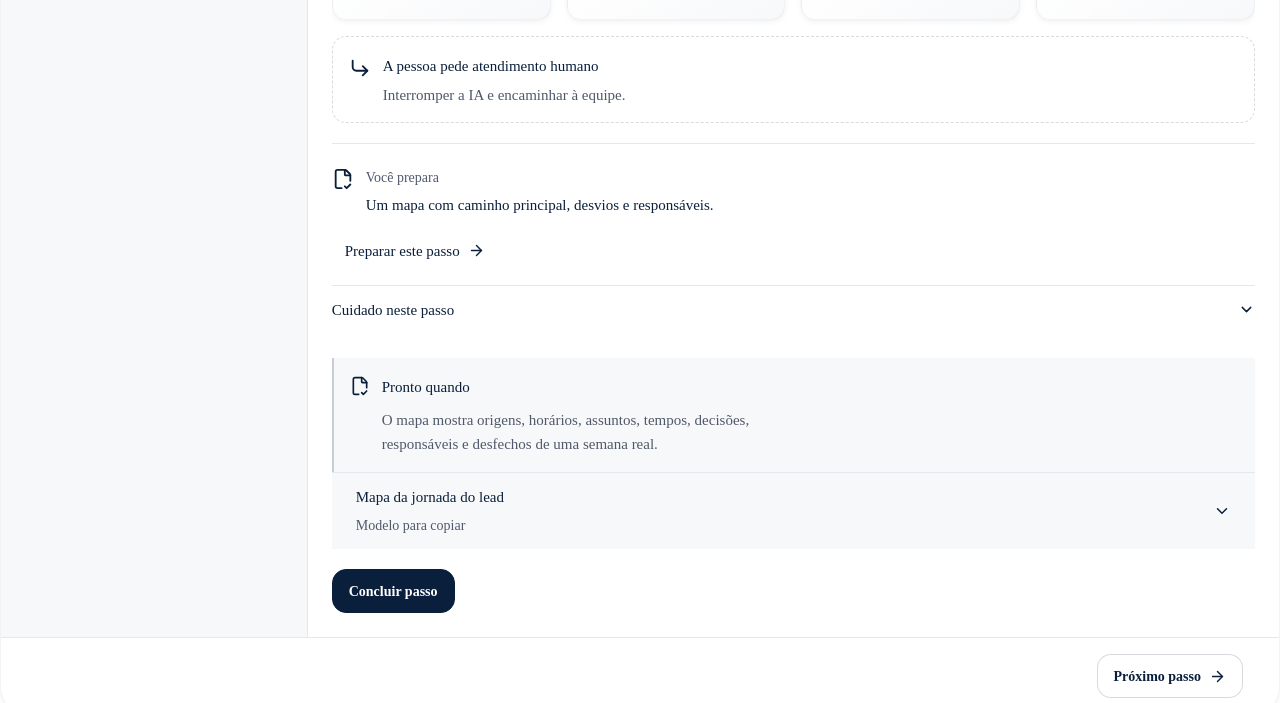
Test: Navegação da implementação › concluir atualiza o progresso, mantém o resultado e só avança com ação explícita
The image size is (1280, 703).
(page scrolled)
Click the button "Concluir passo" at (393, 591), box [332,569,454,613]
(page scrolled)
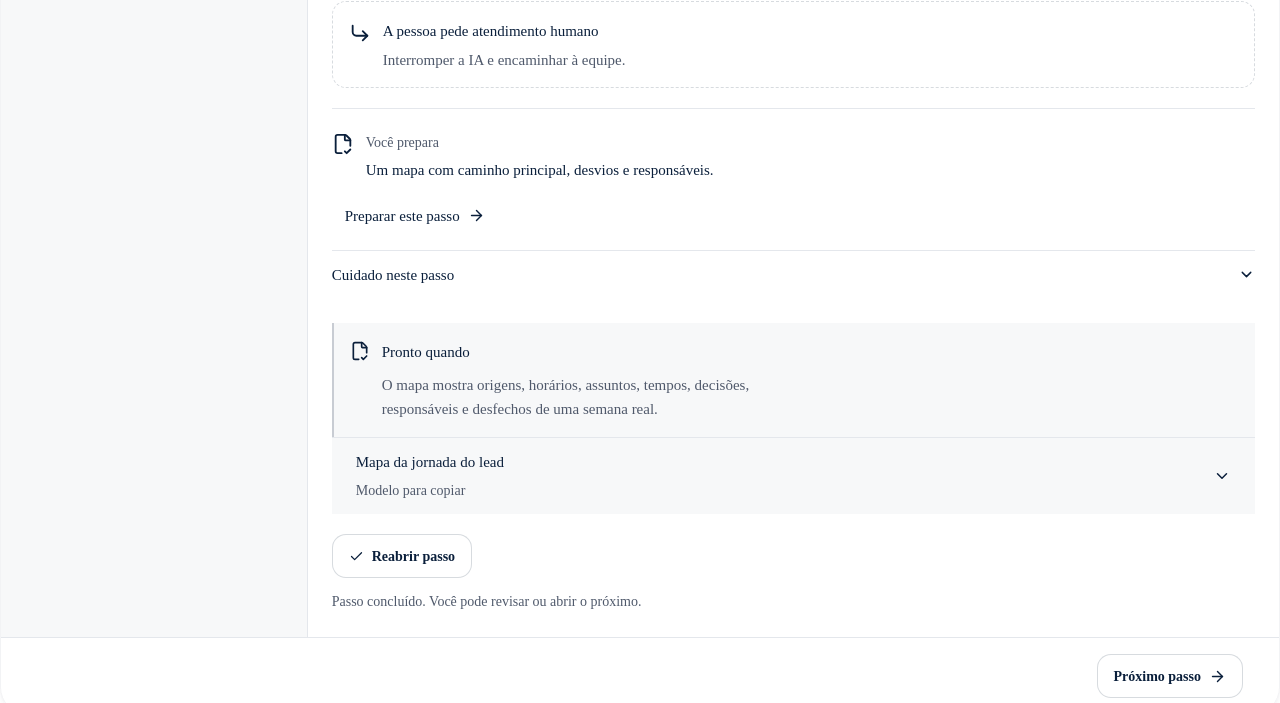
Expected: the message shows "Passo concluído", [332,594,642,609]
Click the button "Próximo passo" at (1170, 676), box [1096,654,1243,698]
(page scrolled)
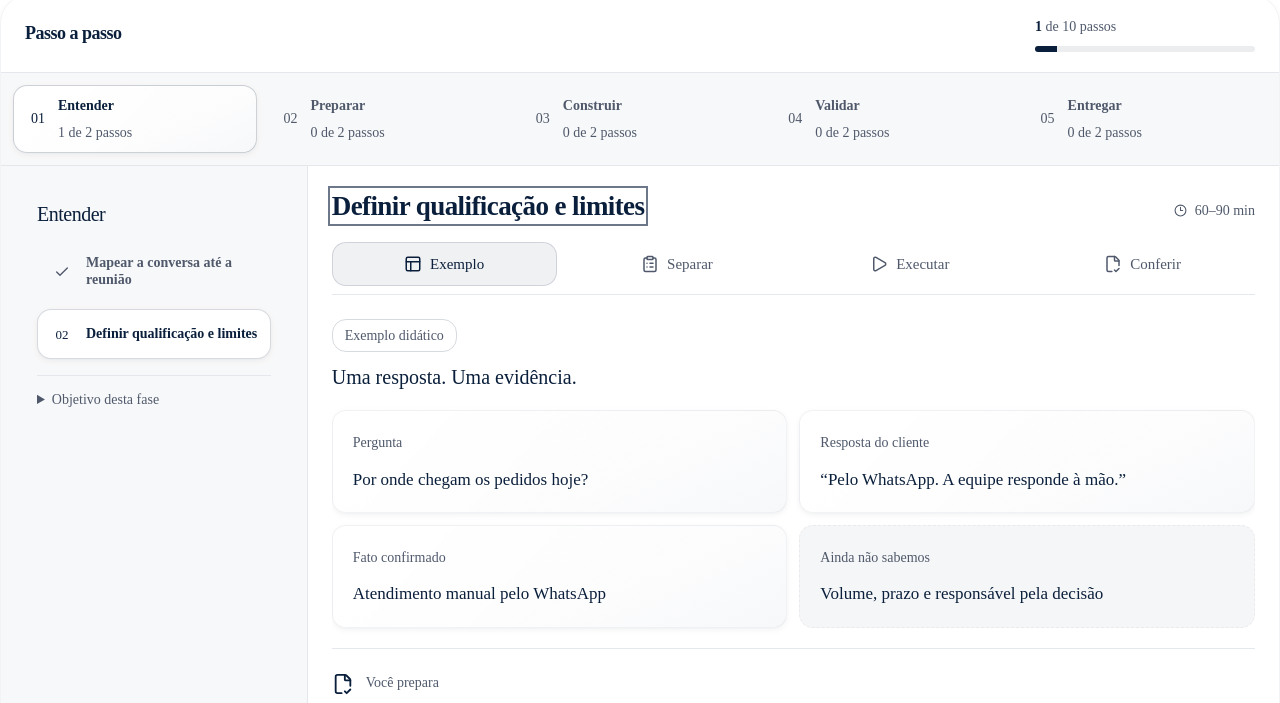
Expected: the heading "Definir qualificação e limites" is shown, [332,190,644,222]
